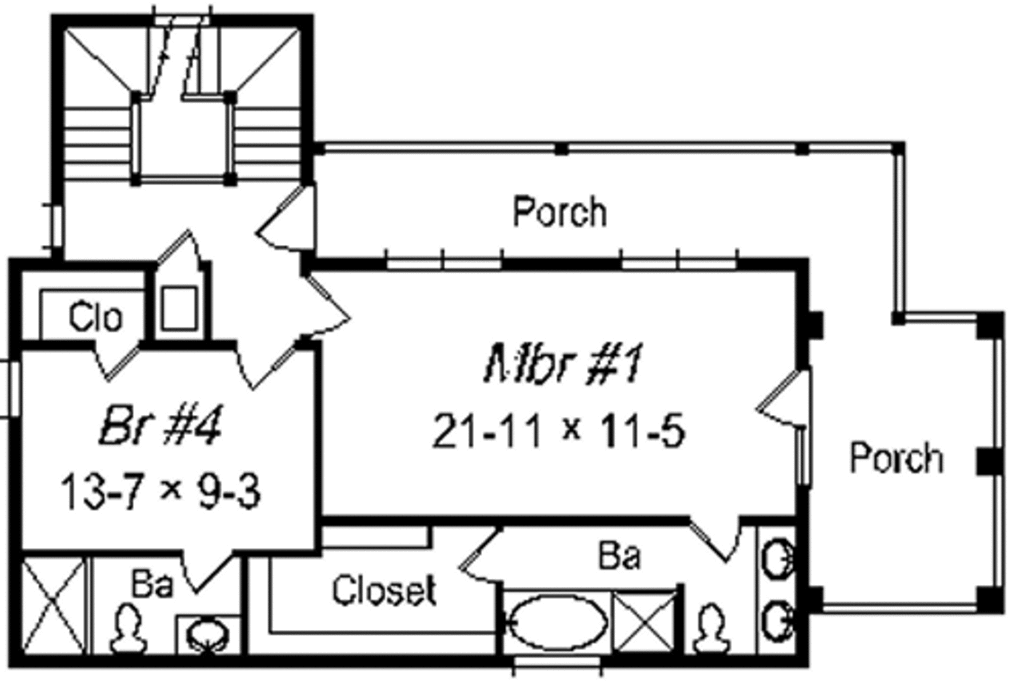door: (253, 184, 319, 249), (749, 369, 808, 426), (451, 529, 508, 583), (304, 273, 352, 337), (182, 538, 232, 594), (243, 345, 301, 390), (691, 515, 743, 564), (93, 341, 148, 384), (158, 224, 202, 264)
large_sink: (692, 590, 739, 654), (109, 592, 151, 653)
small_sink: (176, 607, 240, 655), (761, 525, 800, 583), (761, 599, 801, 641)
stairs: (64, 25, 304, 183)
tub: (510, 596, 618, 655)
window: (791, 431, 815, 483)
